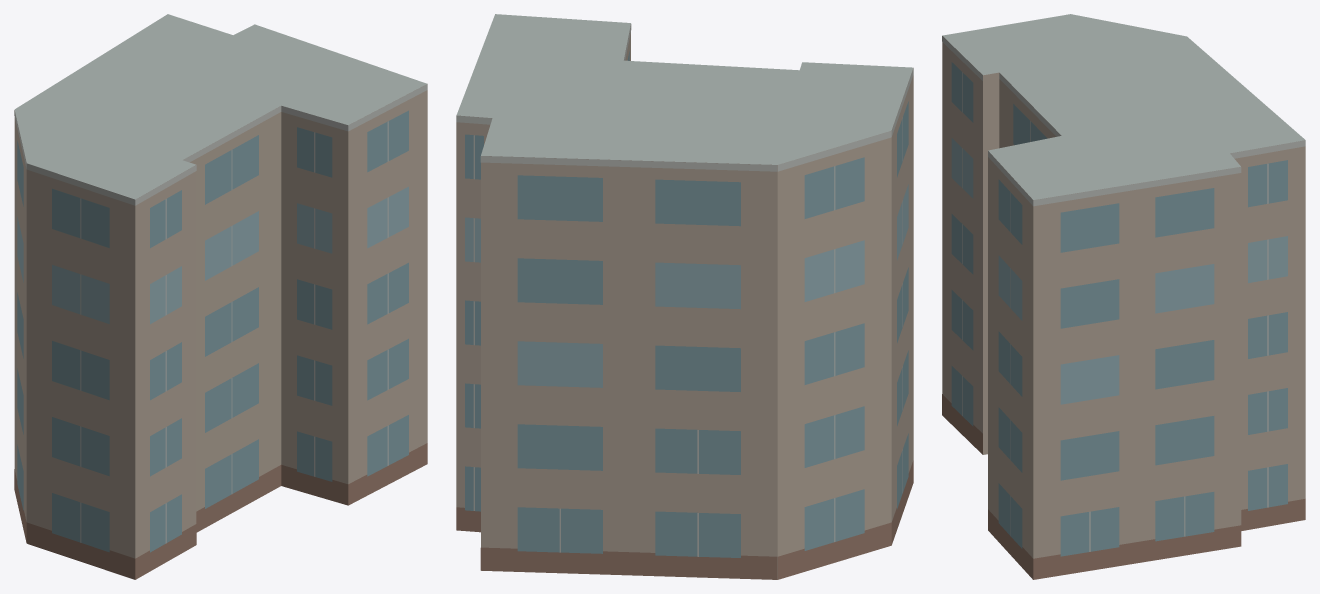
Rendered from survey-upis-32860466.glb.
The picture shows the model from 3 angles, left to right: view 1: azimuth 30°, elevation 25°; view 2: azimuth 150°, elevation 25°; view 3: azimuth 270°, elevation 25°; orthographic projection. The views are drawn at different scales.
Parts seen in each view (by area): view 1: survey-upis-32860466.tmp; view 2: survey-upis-32860466.tmp; view 3: survey-upis-32860466.tmp.
Part boxes in pixels (x1=…): survey-upis-32860466.tmp: x1=14, y1=14, x2=427, y2=579; survey-upis-32860466.tmp: x1=456, y1=14, x2=913, y2=579; survey-upis-32860466.tmp: x1=942, y1=14, x2=1305, y2=579.
Bounding box in the file's own units: 15.78 × 15 × 13.03.
